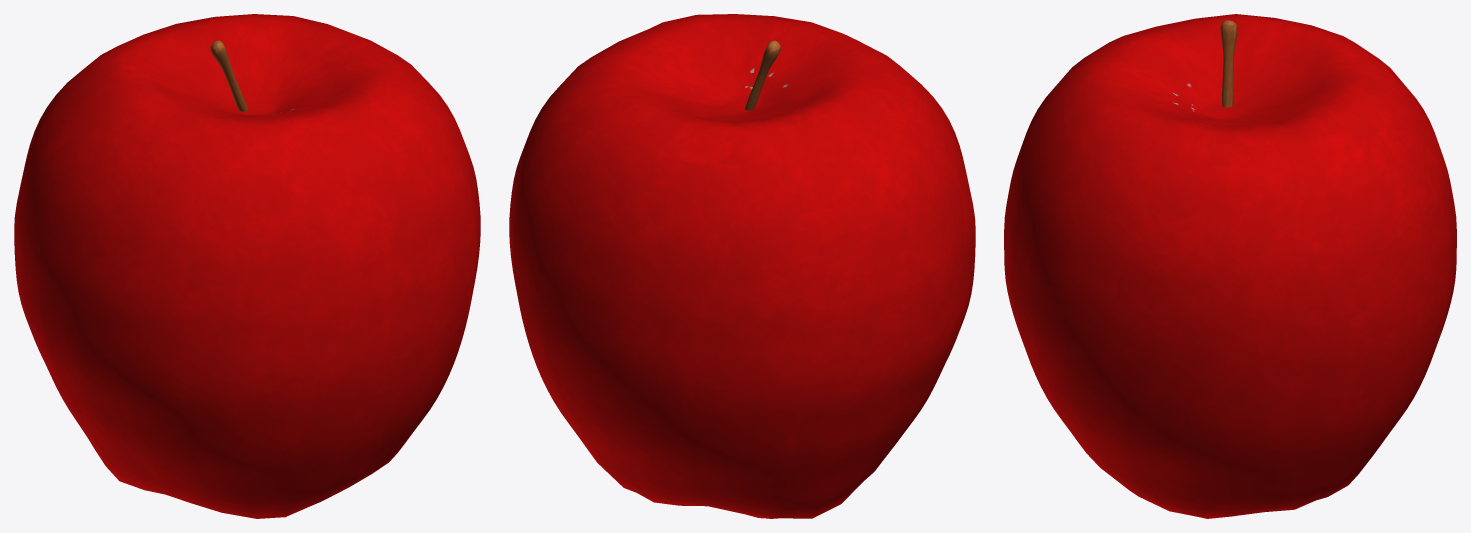
Rendered from Apple.fbx.
3 views of the same model, side by side, from view 1: azimuth 30°, elevation 25°; view 2: azimuth 150°, elevation 25°; view 3: azimuth 270°, elevation 25° (orthographic).
Parts seen in each view (by area): view 1: Apple; view 2: Apple; view 3: Apple.
Part boxes in pixels (<box>): Apple: <box>14,14,480,518</box>; Apple: <box>509,14,975,518</box>; Apple: <box>1004,14,1456,518</box>.
Size of the model in its own units: 349 by 367 by 340.
Materials: 2 (2 with a texture image).
